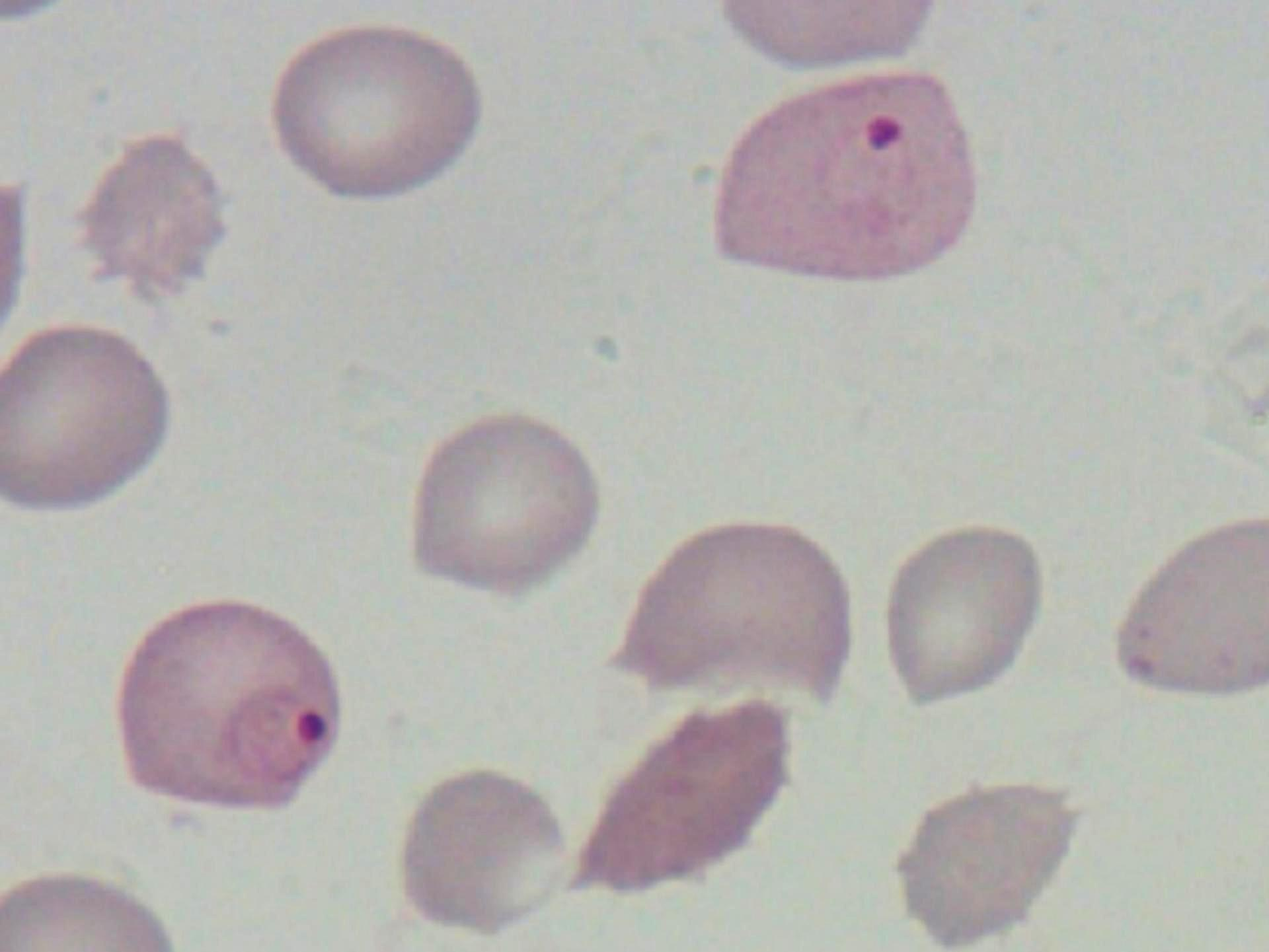Infected: (707, 73, 977, 277), (121, 602, 342, 811)
Uninfected: (610, 525, 849, 701), (573, 702, 790, 893), (406, 415, 594, 595), (274, 30, 477, 196), (0, 326, 163, 511), (899, 782, 1075, 944), (886, 529, 1042, 705), (1115, 521, 1269, 697), (405, 772, 570, 928), (77, 135, 229, 303)
